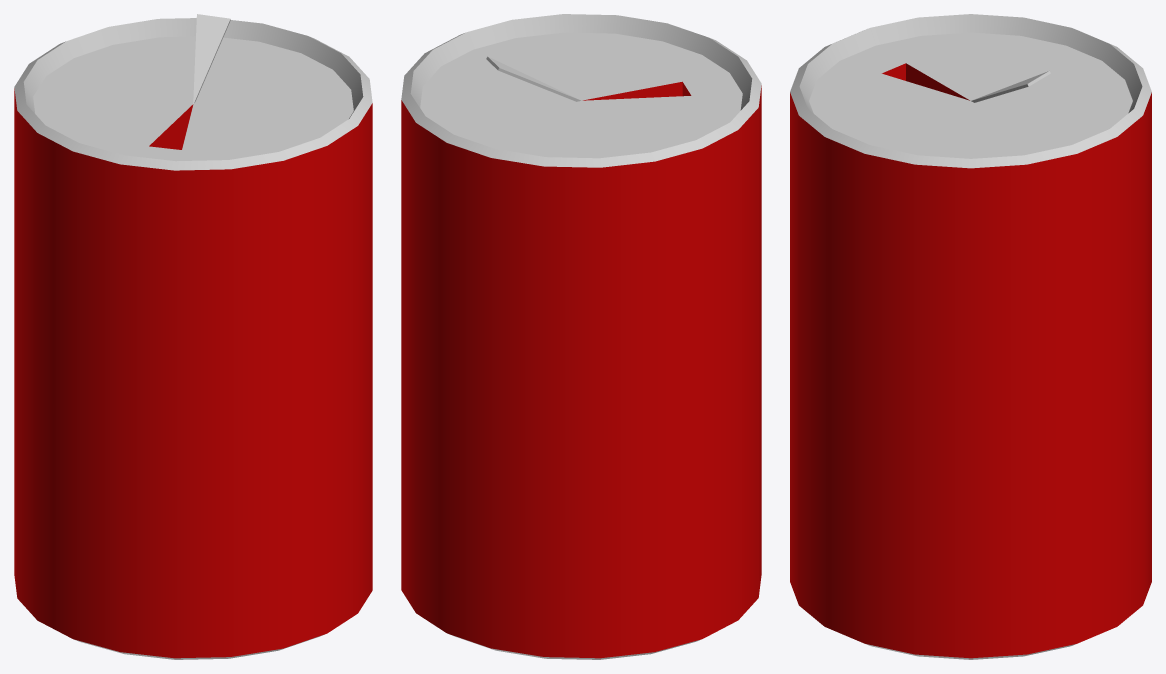
File: Can_Debris.fbx
The picture shows the model from 3 angles, left to right: view 1: azimuth 30°, elevation 25°; view 2: azimuth 150°, elevation 25°; view 3: azimuth 270°, elevation 25°; orthographic projection.
Parts seen in each view (by area): view 1: pCylinder3; view 2: pCylinder3; view 3: pCylinder3.
Part boxes in pixels (x1=…): pCylinder3: x1=14, y1=14, x2=372, y2=659; pCylinder3: x1=401, y1=14, x2=761, y2=659; pCylinder3: x1=790, y1=14, x2=1151, y2=659.
Bounding box in the file's own units: 1.28 × 2.1 × 1.28.
